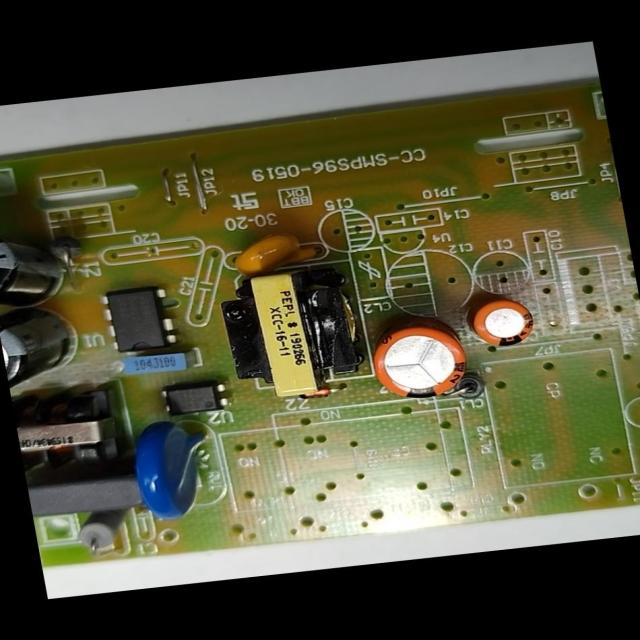Cap1: (362, 319, 474, 405)
Cap2: (464, 294, 540, 353)
Cap3: (0, 301, 91, 395)
Cap4: (0, 218, 78, 312)
MOSFET: (95, 283, 181, 359)
Mov: (121, 415, 226, 522)
Resistor: (65, 504, 138, 553)
Transformer: (212, 261, 379, 406), (10, 380, 137, 482)
